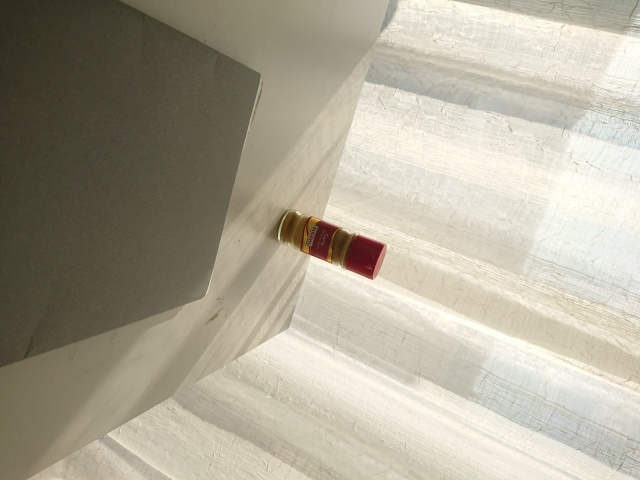Kotanyi Curry Spices Mix 70g: (275, 207, 389, 282)
